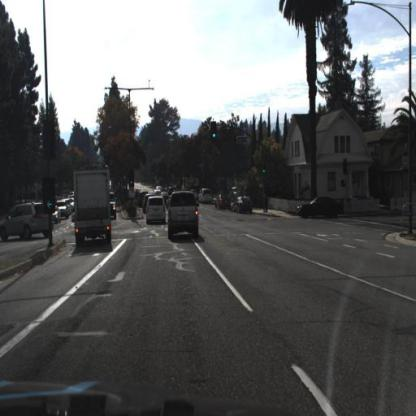car: (1, 203, 55, 243), (167, 188, 203, 246), (296, 196, 346, 221), (147, 194, 169, 230), (232, 196, 253, 215), (218, 191, 235, 212), (199, 188, 213, 207), (199, 188, 213, 206), (109, 192, 118, 219), (140, 191, 148, 212), (54, 206, 63, 224), (46, 195, 57, 209), (152, 189, 164, 198), (155, 184, 163, 194)
pedestrian: (263, 188, 270, 215)
trafficLight-Green: (211, 121, 219, 143), (212, 123, 218, 141), (262, 161, 268, 177)
trafficLight-GreenLeft: (43, 178, 57, 214), (128, 170, 136, 191)
trafficLight-RedLeft: (128, 169, 136, 189)
truck: (71, 165, 113, 244)
